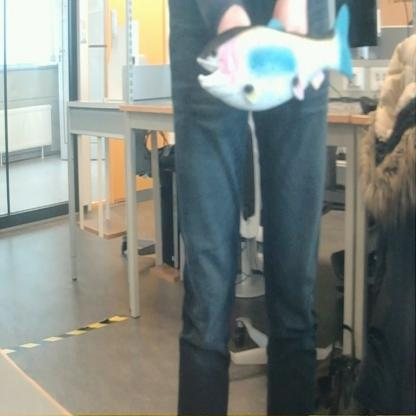rubberfish: (195, 1, 358, 116)
